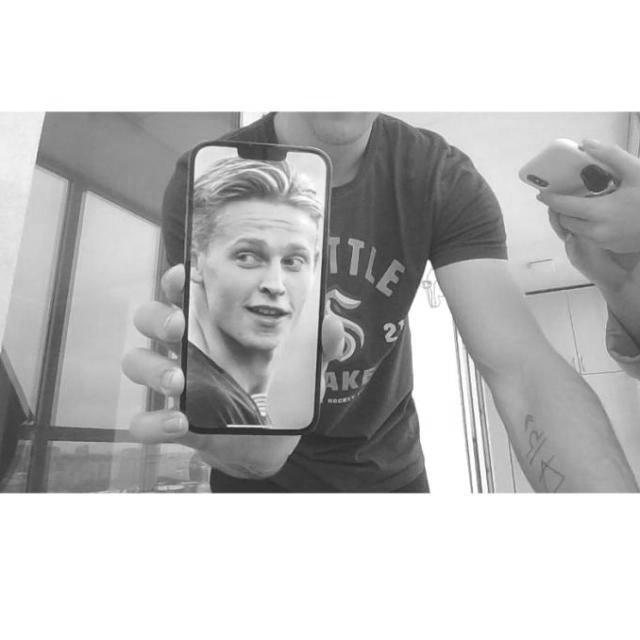fake: (172, 138, 336, 440)
